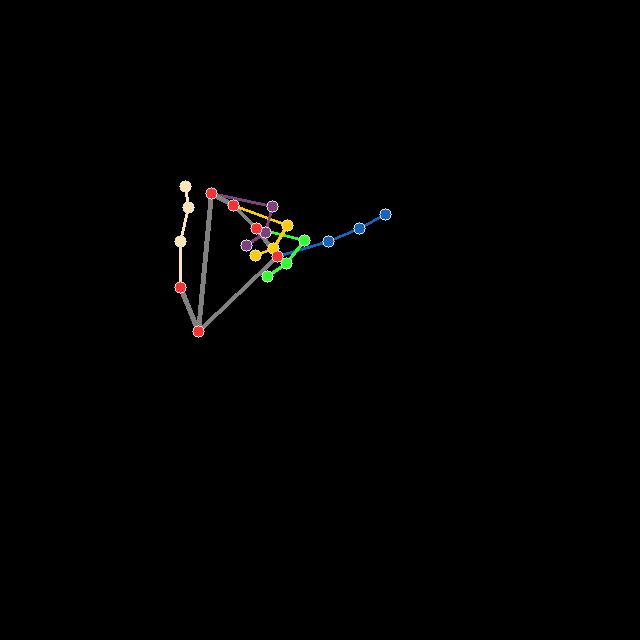skr: (172, 178, 392, 338)
